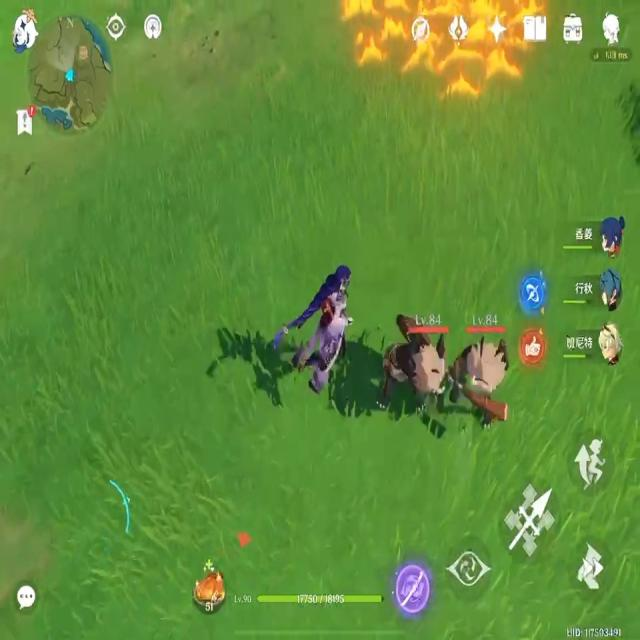genshin-hilichurls: (382, 295, 451, 434), (459, 284, 515, 441)
